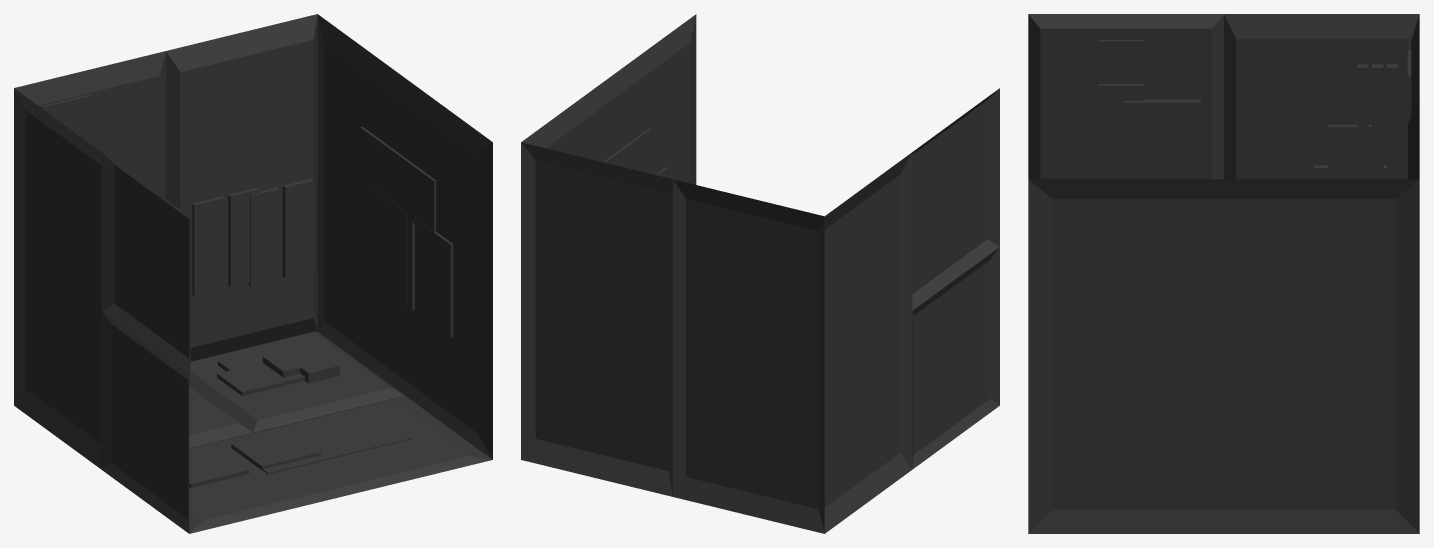
Rendered from tunnel_up_01.obj.
3 renders of one model, left to right at view 1: azimuth 30°, elevation 25°; view 2: azimuth 150°, elevation 25°; view 3: azimuth 270°, elevation 25°, orthographic. The views are drawn at different scales.
Parts seen in each view (by area): view 1: tunnel; view 2: tunnel; view 3: tunnel.
Boxes of the visible parts, x1,y1,x2,y2 form: tunnel: [14, 14, 492, 533]; tunnel: [521, 14, 999, 533]; tunnel: [1028, 14, 1419, 533].
Bounding box in the file's own units: 15.56 × 15.56 × 15.56.
Materials: 1 (1 with a texture image).
